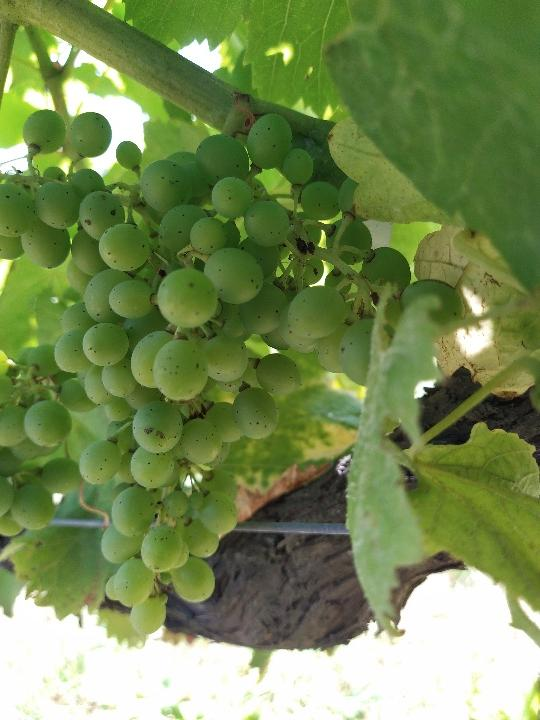grape: (4, 108, 471, 639)
